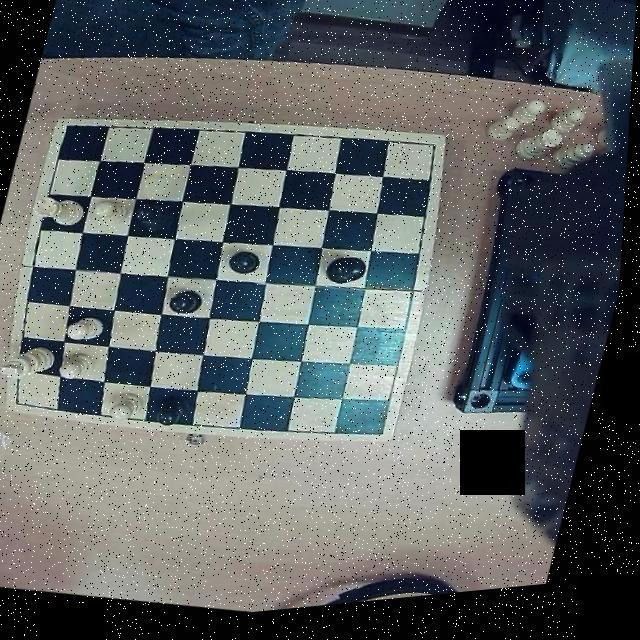chess-table-corners: (412, 142, 446, 180), (366, 416, 399, 452), (55, 116, 89, 150), (8, 385, 40, 415)
